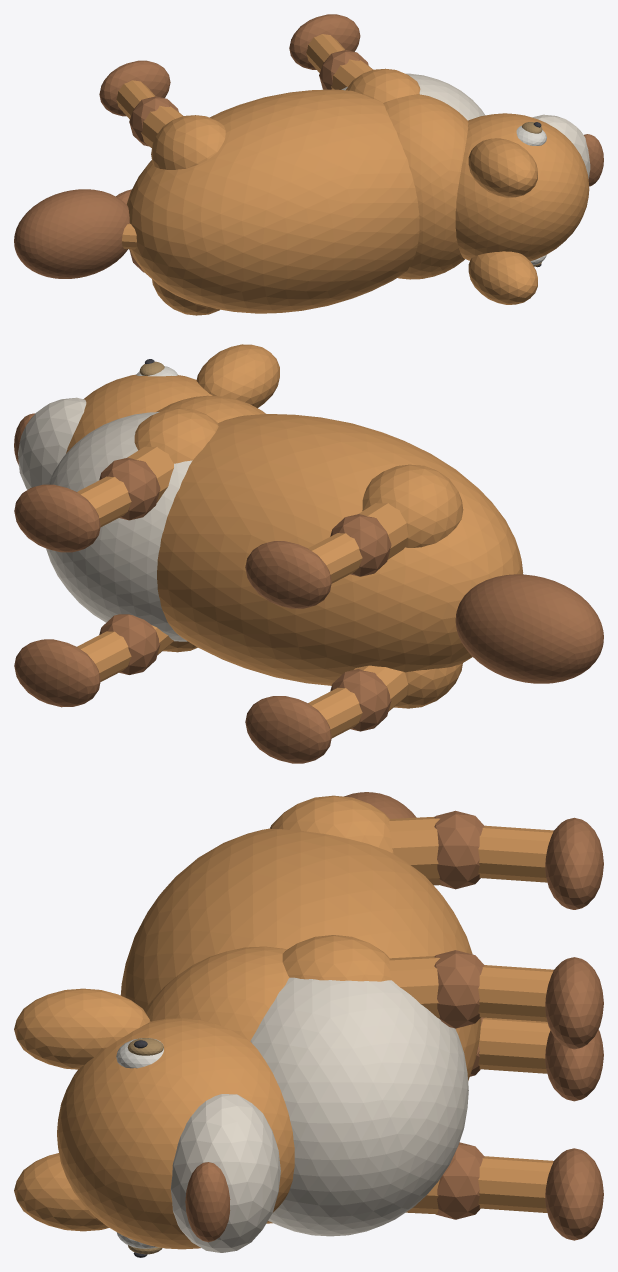
File: fox.glb
3 views of the same model, one above another, from view 1: azimuth 30°, elevation 25°; view 2: azimuth 150°, elevation 25°; view 3: azimuth 270°, elevation 25° (orthographic). The views are drawn at different scales.
Parts seen in each view (by area): view 1: world; view 2: world; view 3: world.
Part boxes in pixels (left/top/right/bottom): world: left=14, top=14, right=603, bottom=315; world: left=14, top=344, right=603, bottom=763; world: left=14, top=792, right=603, bottom=1257.
Size of the model in its own units: 2.8 by 0.96 by 1.79.
